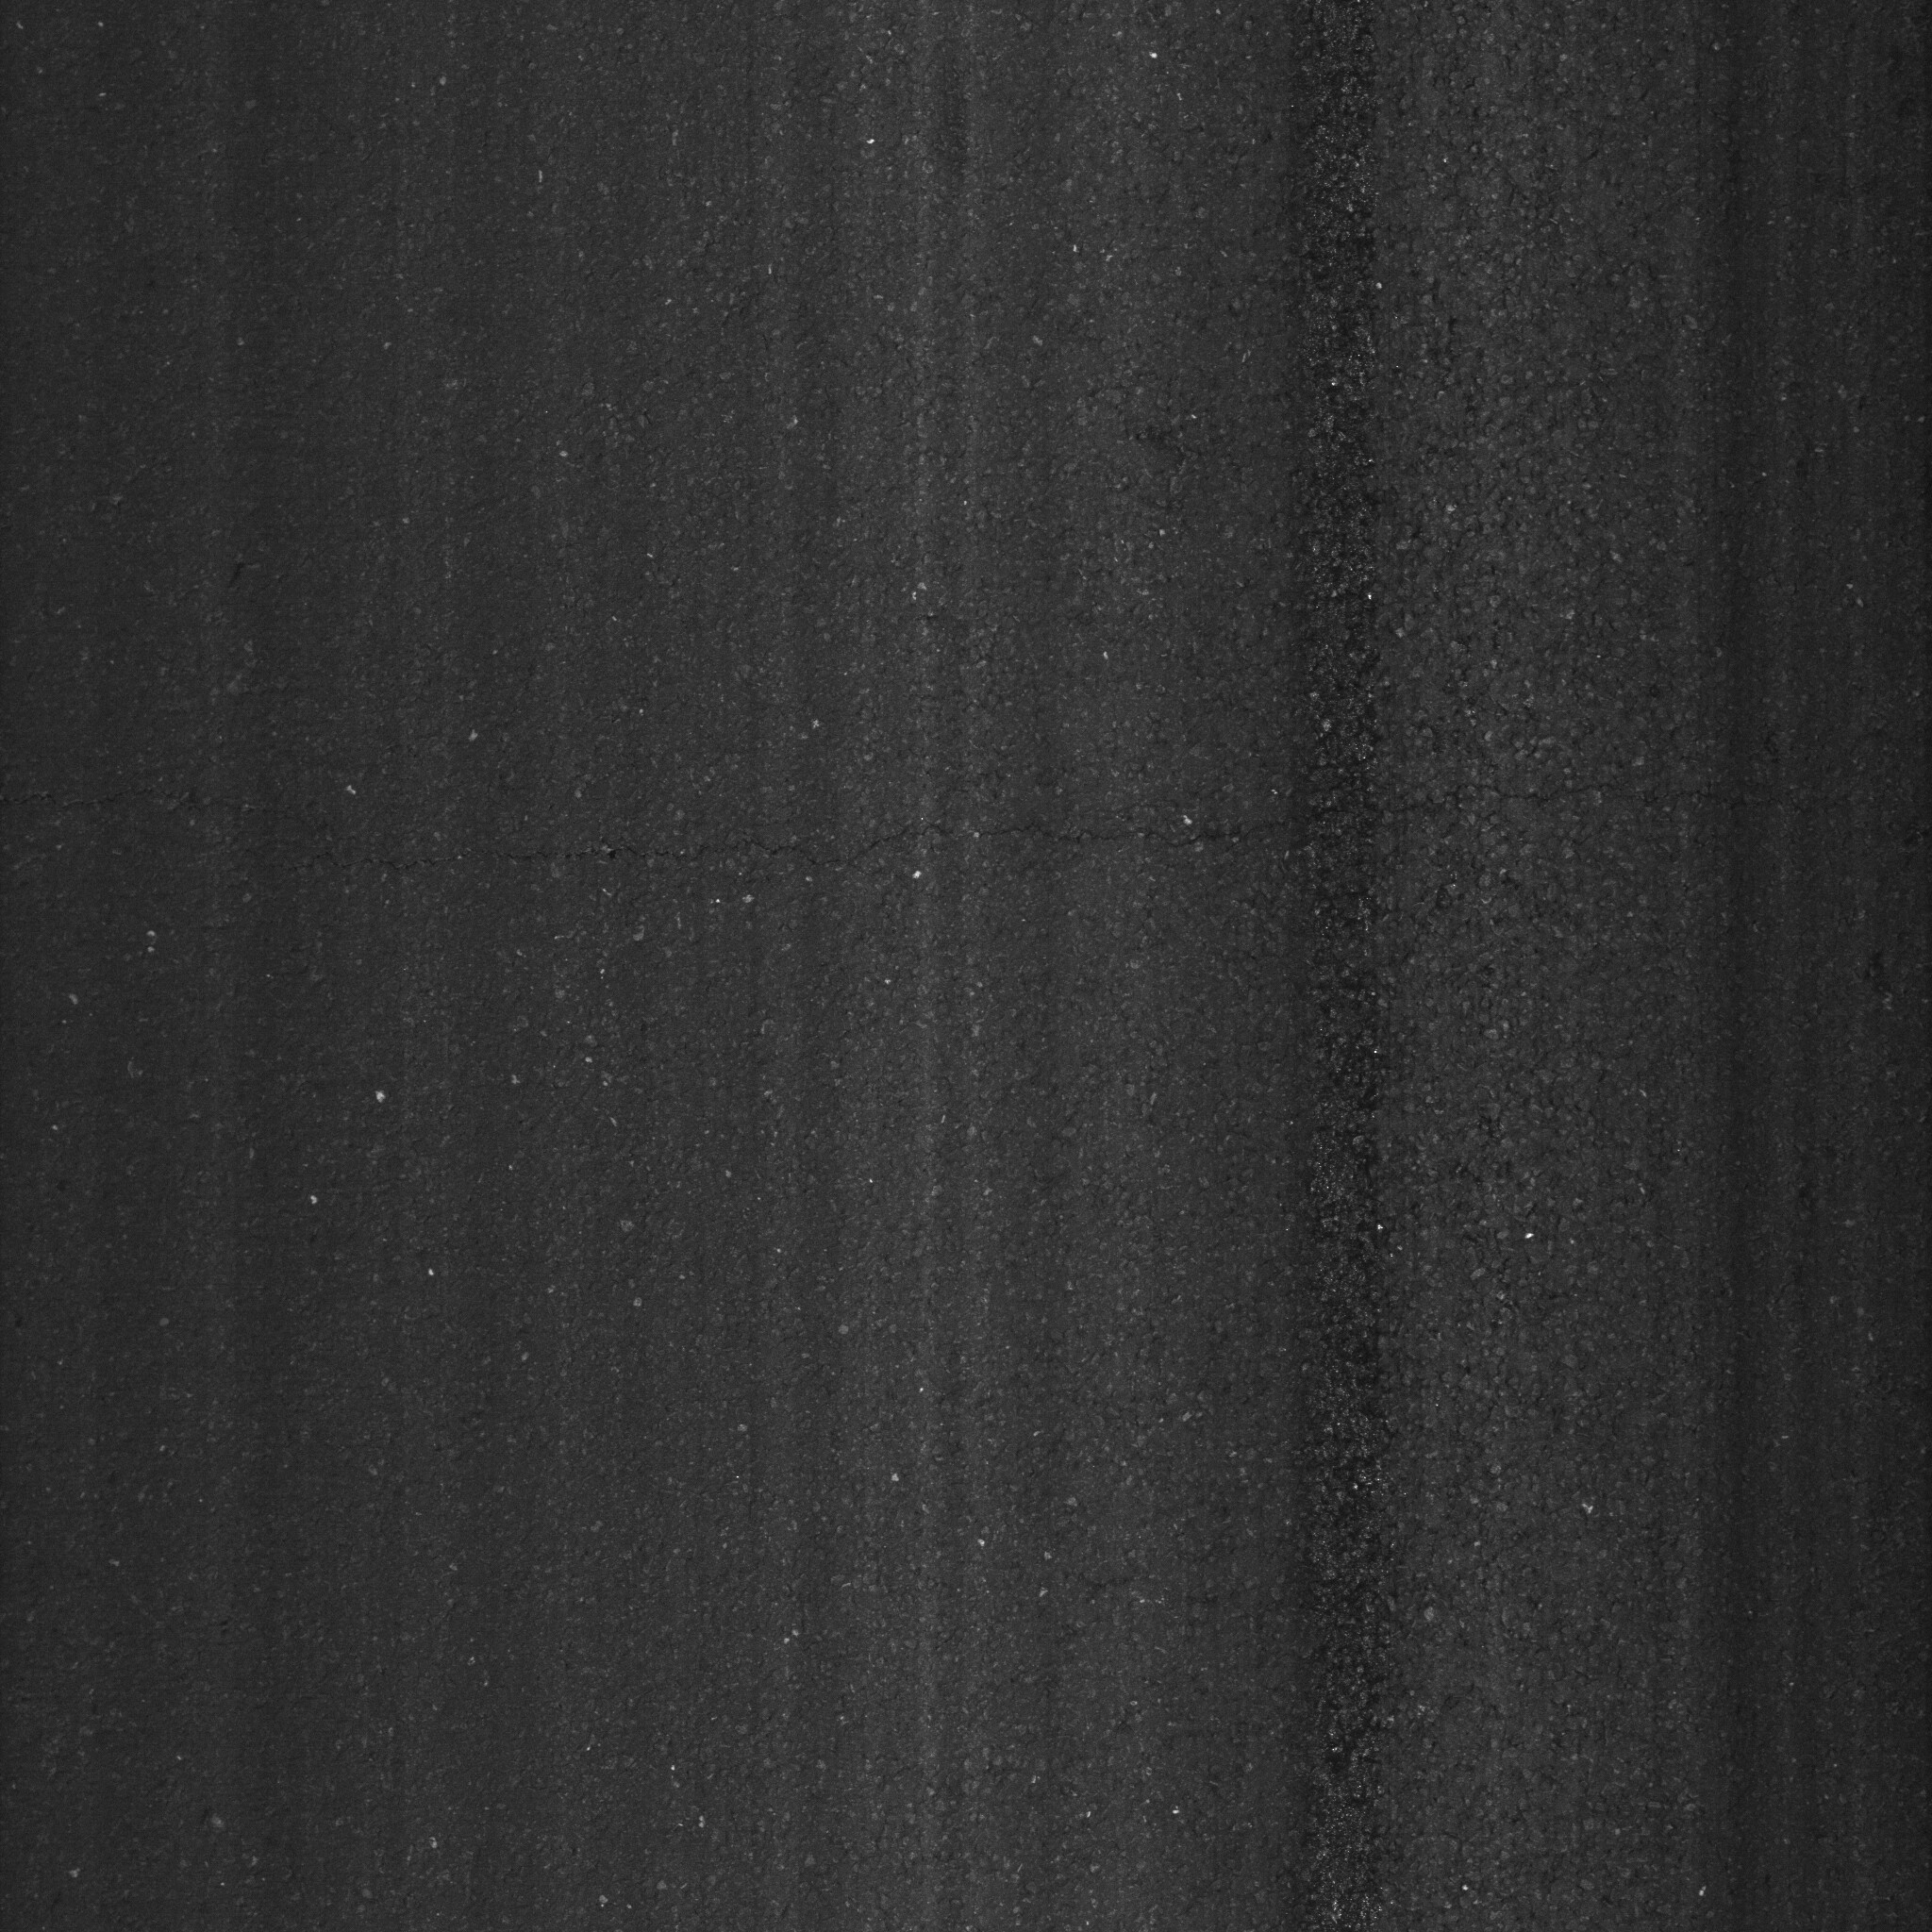transeverse: (11, 748, 1769, 908)
